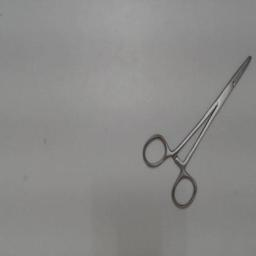Mayo Needle Holder: (139, 50, 255, 212)
